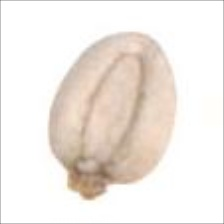L5: (81, 51, 145, 167), (65, 157, 121, 203), (125, 28, 163, 55)
L6: (45, 30, 179, 202)
